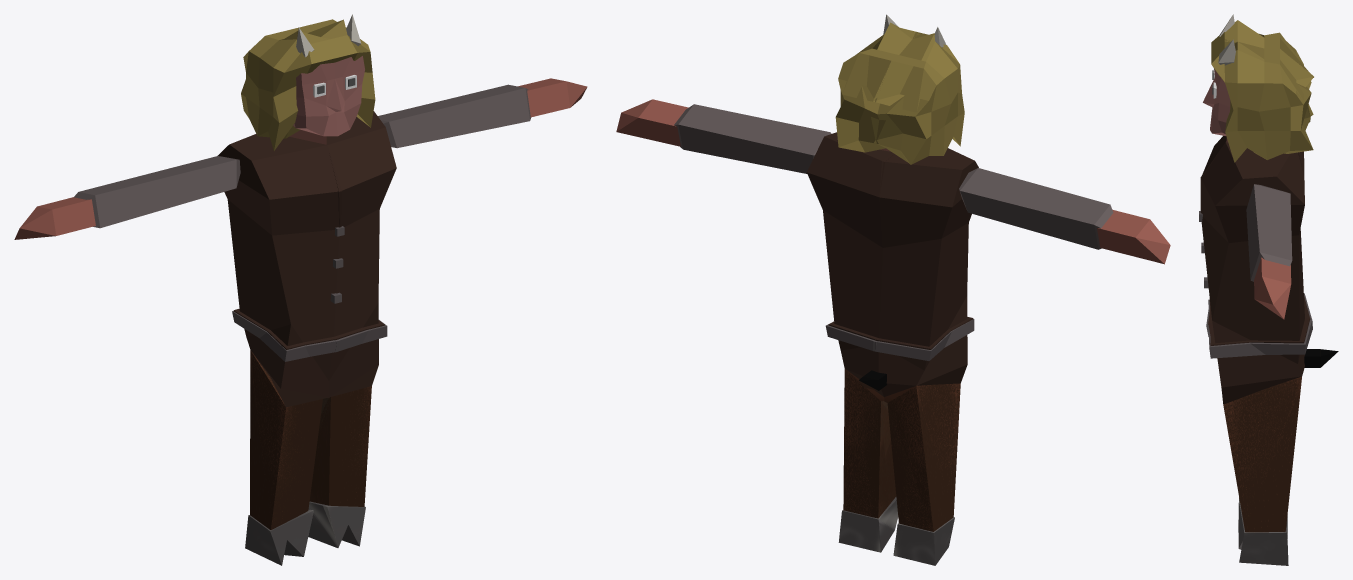
File: kipsas.glb
The picture shows the model from 3 angles, left to right: view 1: azimuth 30°, elevation 25°; view 2: azimuth 150°, elevation 25°; view 3: azimuth 270°, elevation 25°; orthographic projection. The views are drawn at different scales.
Parts seen in each view (by area): view 1: Cube; view 2: Cube; view 3: Cube.
Boxes of the visible parts, left/top/right/bottom form: Cube: left=14, top=14, right=587, bottom=565; Cube: left=616, top=14, right=1170, bottom=565; Cube: left=1199, top=14, right=1338, bottom=565.
Bounding box in the file's own units: 8.93 × 8.04 × 1.96.
Materials: 13 (5 with a texture image).
